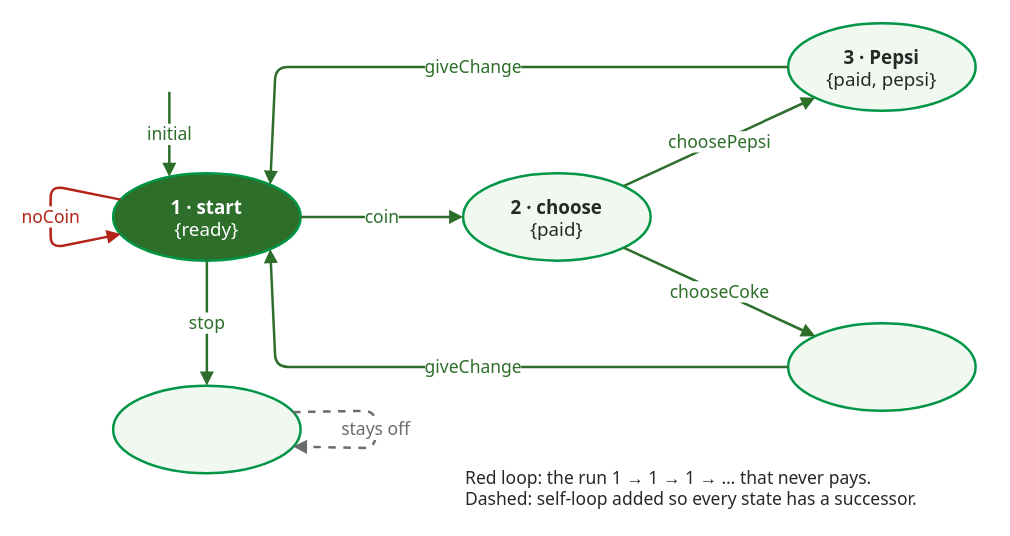
Image size: 1010x536. Some labels were removed from this diagram. Here are the shapes that lost their labels. From the top down, the centre of each, then its label:
At point 881,366: "4 · Coke {paid, coke}".
At point 206,429: "5 · finish {off}".
